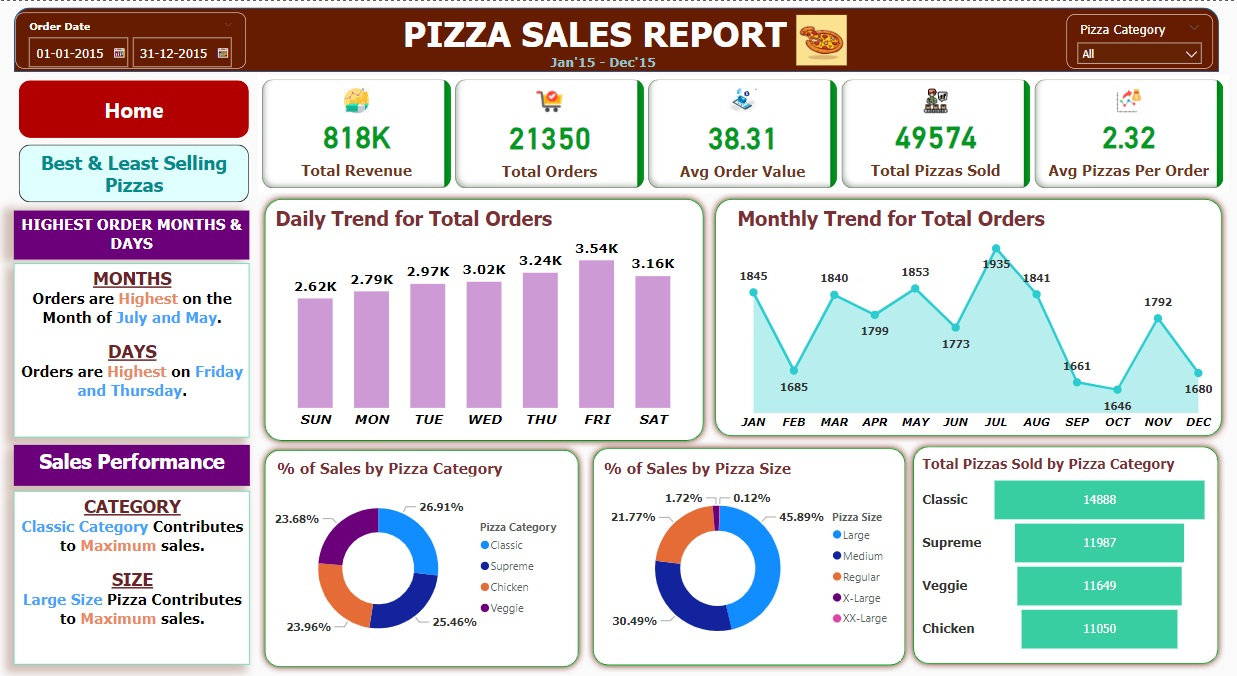

What the dashboard file says about the page in this screenshot:
{"tool":"powerbi","page":{"name":"Home","canvas":[1500,820],"ordinal":0},"visuals":[{"type":"cardVisual","fields":{"Data":["Order Details.Total Revenue","Order Details.Total Orders","Order Details.Average Order Value","Order Details.Total Pizzas Sold","Order Details.Average Pizzas Per Order"]},"box":[313.5,89.6,1177.1,142.9],"z":0},{"type":"shape","box":[17.1,8.5,1460.7,78],"z":1000},{"type":"textbox","box":[434.6,8.6,576.6,66.7],"z":2000},{"type":"textbox","box":[628.2,60.2,208.7,30.1],"z":3000},{"type":"image","box":[944.5,12.9,105.4,71],"z":4000},{"type":"shape","box":[313.5,232.4,548,309.2],"z":5000},{"type":"columnChart","title":"Daily Trend for Total Orders","fields":{"Category":["Orders.Day Name Formatted"],"Y":["Order Details.Total Orders"]},"box":[330.5,247.4,518.2,279.4],"z":6000},{"type":"shape","box":[860.6,232.4,630.4,303.4],"z":7000},{"type":"areaChart","title":"Monthly Trend for Total Orders","fields":{"Category":["Orders.Month Name Formatted"],"Y":["Order Details.Total Orders"]},"box":[889.2,247.4,588.6,281.5],"z":8000},{"type":"shape","box":[314.8,535.1,396.6,279.4],"z":9000},{"type":"shape","box":[712.7,533.8,394.5,279.4],"z":10000},{"type":"shape","box":[1100.7,531.2,386,279.4],"z":11000},{"type":"donutChart","title":"% of Sales by Pizza Category","fields":{"Category":["Pizzas Types.Category"],"Y":["Order Details.Total Revenue"]},"box":[331.8,554.3,364.7,245.2],"z":12000},{"type":"donutChart","title":"% of Sales by Pizza Size","fields":{"Y":["Order Details.Total Revenue"],"Category":["Pizzas.Pizza Size"]},"box":[727.6,553.7,365.7,245.3],"z":13000},{"type":"funnel","fields":{"Category":["Pizzas Types.Pizza Category"],"Y":["Order Details.Total Pizzas Sold"]},"box":[1115.6,550.4,358.3,245.2],"z":14000},{"type":"textbox","box":[17.1,253.8,285.7,59.7],"z":15000},{"type":"textbox","box":[17.1,317.7,285.8,211.1],"z":16000},{"type":"textbox","box":[17.2,537.9,286.1,49.5],"z":17000},{"type":"textbox","box":[17.2,593.8,286.1,210],"z":18000},{"type":"slicer","fields":{"Values":["Pizzas Types.Pizza Category"]},"box":[1294.5,15.1,177.4,66],"z":19000},{"type":"slicer","fields":{"Values":["Orders.Date"]},"box":[20.8,13.2,279.3,67.9],"z":20000},{"type":"pageNavigator","box":[23.5,96,279.3,70.4],"z":21000},{"type":"pageNavigator","box":[23.5,174.9,279.3,70.4],"z":22000}]}

Visuals, with their boxes in screenshot pixels (x1, y1, x2, y2), scaled from the page's 1500x820 canvas onto the 1237x676 screenshot:
cardVisual - Order Details.Total Revenue x Order Details.Total Orders: select_region(259, 74, 1229, 192)
shape: select_region(14, 7, 1219, 71)
textbox: select_region(358, 7, 834, 62)
textbox: select_region(518, 50, 690, 74)
image: select_region(779, 11, 866, 69)
shape: select_region(259, 192, 710, 446)
"Daily Trend for Total Orders" columnChart: select_region(273, 204, 700, 434)
shape: select_region(710, 192, 1230, 442)
"Monthly Trend for Total Orders" areaChart: select_region(733, 204, 1219, 436)
shape: select_region(260, 441, 587, 671)
shape: select_region(588, 440, 913, 670)
shape: select_region(908, 438, 1226, 668)
"% of Sales by Pizza Category" donutChart: select_region(274, 457, 574, 659)
"% of Sales by Pizza Size" donutChart: select_region(600, 456, 902, 659)
funnel - Pizzas Types.Pizza Category x Order Details.Total Pizzas Sold: select_region(920, 454, 1215, 656)
textbox: select_region(14, 209, 250, 258)
textbox: select_region(14, 262, 250, 436)
textbox: select_region(14, 443, 250, 484)
textbox: select_region(14, 490, 250, 663)
slicer - Pizzas Types.Pizza Category: select_region(1068, 12, 1214, 67)
slicer - Orders.Date: select_region(17, 11, 247, 67)
pageNavigator: select_region(19, 79, 250, 137)
pageNavigator: select_region(19, 144, 250, 202)
